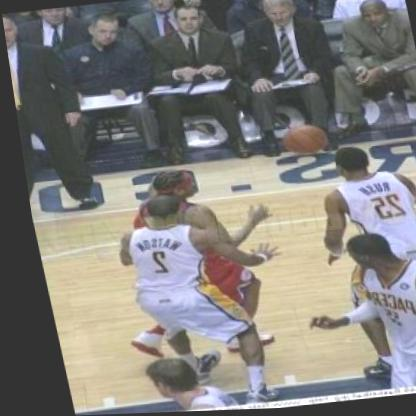basketball: (271, 121, 329, 166)
